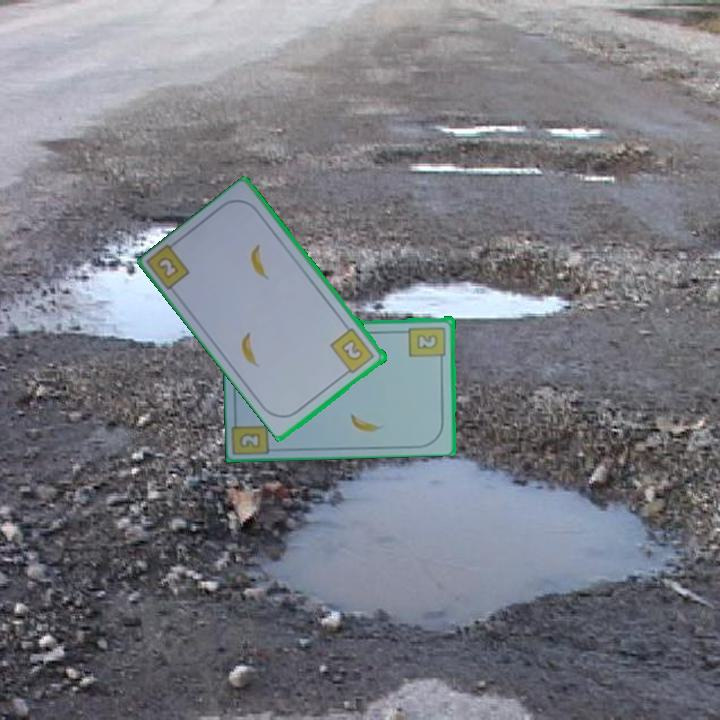2b: (327, 325, 378, 379), (406, 323, 449, 365), (154, 253, 182, 282), (238, 431, 261, 448)
